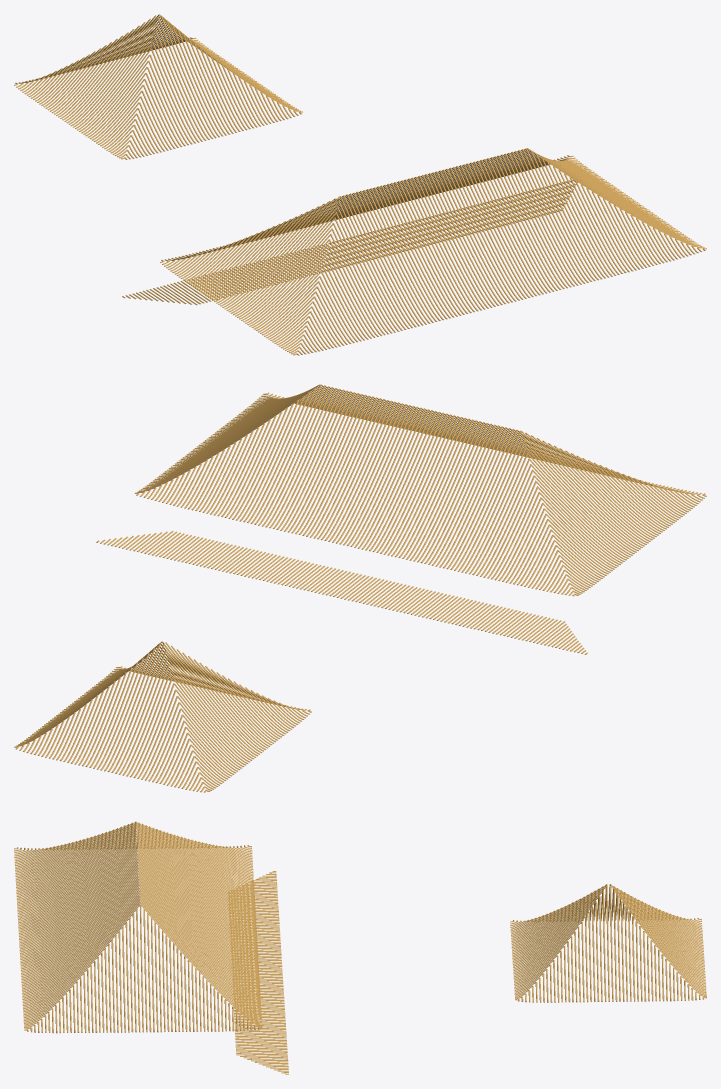
The model's file is roof-tiles-3-5-taihe.glb.
The picture shows the model from 3 angles, top to bottom: view 1: azimuth 30°, elevation 25°; view 2: azimuth 150°, elevation 25°; view 3: azimuth 270°, elevation 25°; orthographic projection. The views are drawn at different scales.
Visible parts, largest first — view 1: taihe-roof-fallback/micro/Roof_Glazed_Ochre, roof-tiles-3-5_micro_Roof_Glazed_Ochre; view 2: taihe-roof-fallback/micro/Roof_Glazed_Ochre, roof-tiles-3-5_micro_Roof_Glazed_Ochre; view 3: taihe-roof-fallback/micro/Roof_Glazed_Ochre, roof-tiles-3-5_micro_Roof_Glazed_Ochre.
Boxes of the visible parts, box(x1,y1,x2,y2) form: taihe-roof-fallback/micro/Roof_Glazed_Ochre: box(160, 148, 706, 355); roof-tiles-3-5_micro_Roof_Glazed_Ochre: box(14, 14, 577, 305); taihe-roof-fallback/micro/Roof_Glazed_Ochre: box(134, 384, 706, 596); roof-tiles-3-5_micro_Roof_Glazed_Ochre: box(14, 531, 587, 792); taihe-roof-fallback/micro/Roof_Glazed_Ochre: box(14, 821, 262, 1033); roof-tiles-3-5_micro_Roof_Glazed_Ochre: box(228, 871, 706, 1074).
Bounding box in the file's own units: 0.6609 × 0.1686 × 0.9515.
